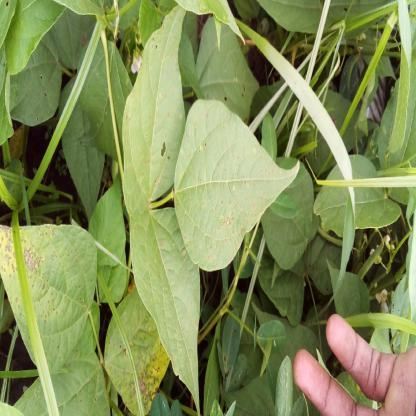Beans_Angular_LeafSpot: (0, 215, 95, 370), (119, 0, 183, 210), (106, 290, 175, 416)
